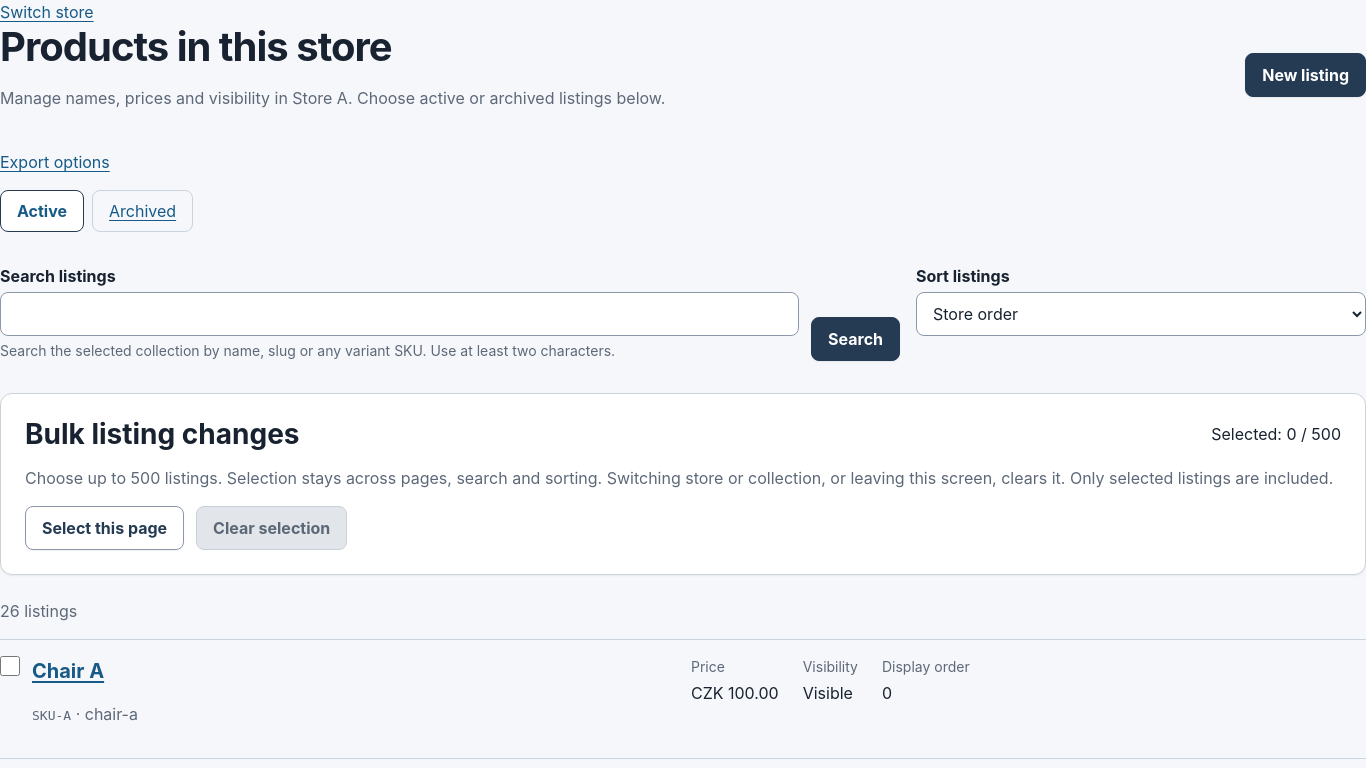
Test case: can deselect a page or clear the exact selection without sending a write
Click the button "Select this page": (105, 528) [25, 506, 184, 550]
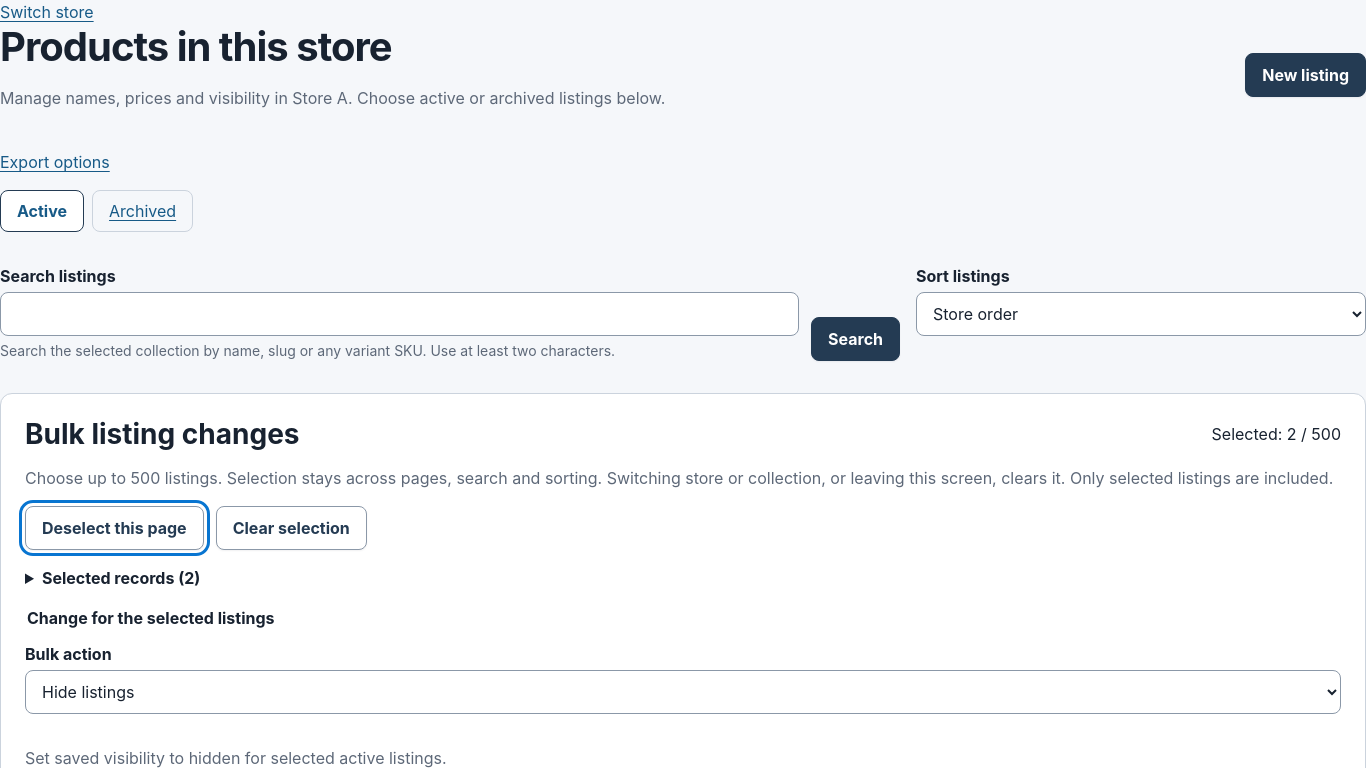
Click the button "Deselect this page": (114, 528) [25, 506, 204, 550]
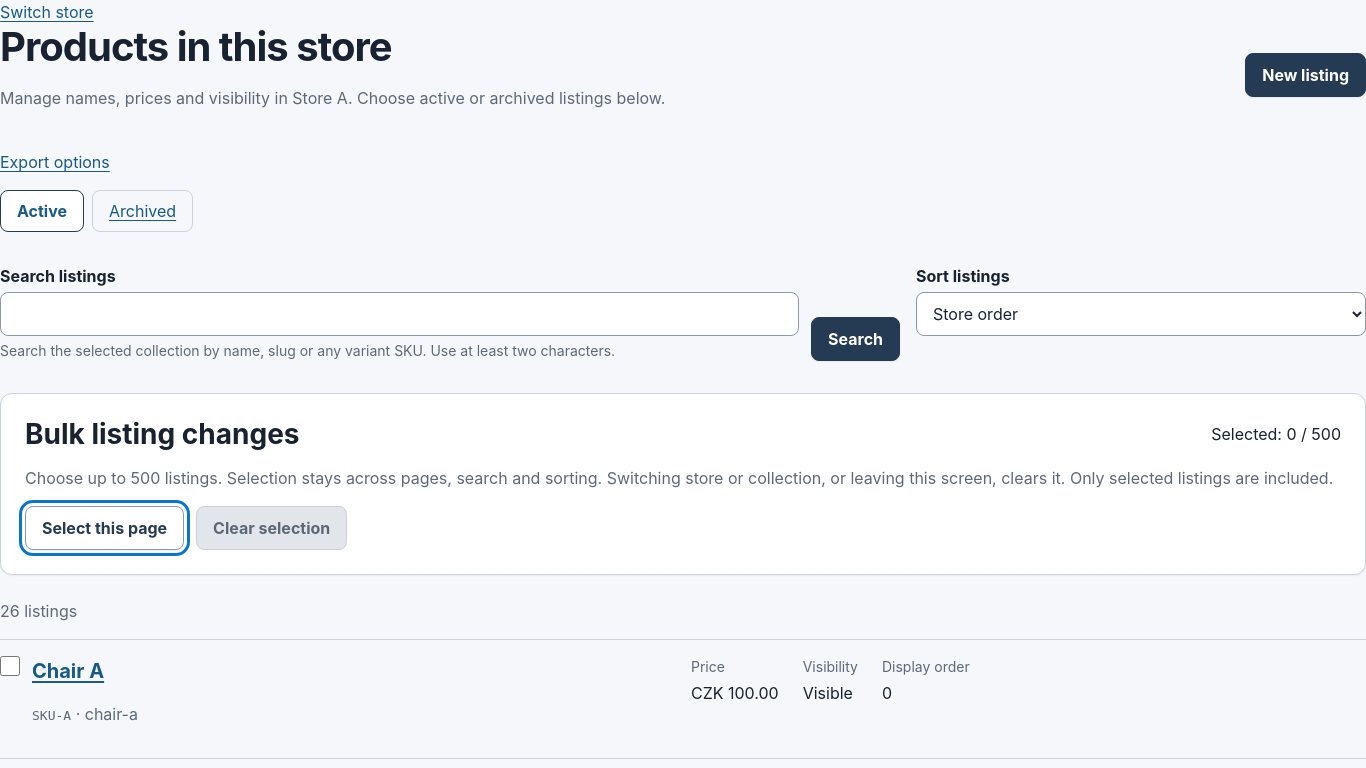
Expected: the text "Selected: 0 / 500" is shown, [1211, 422, 1341, 446]
Click the checkbox named "Select Chair A (SKU-A)": (10, 666) [0, 656, 20, 676]
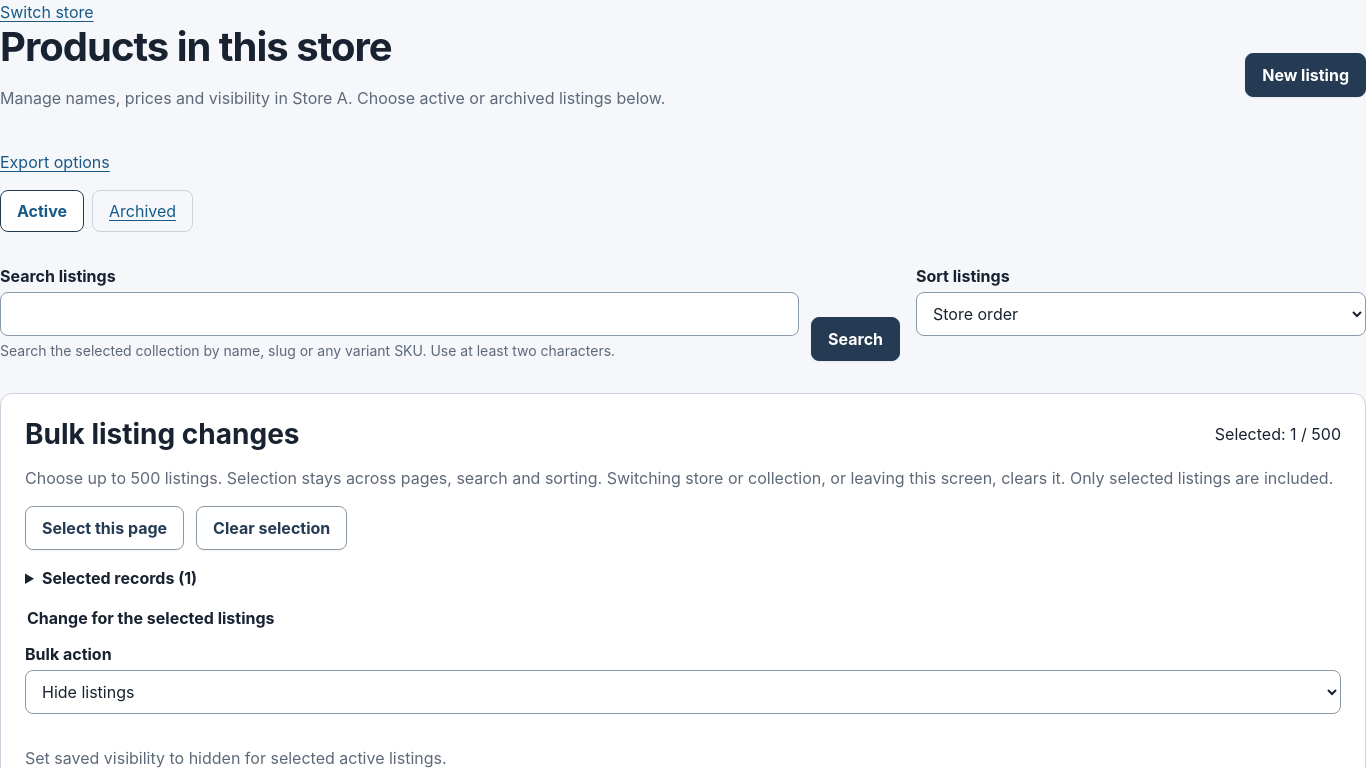
Click the button "Clear selection": (272, 528) [196, 506, 347, 550]
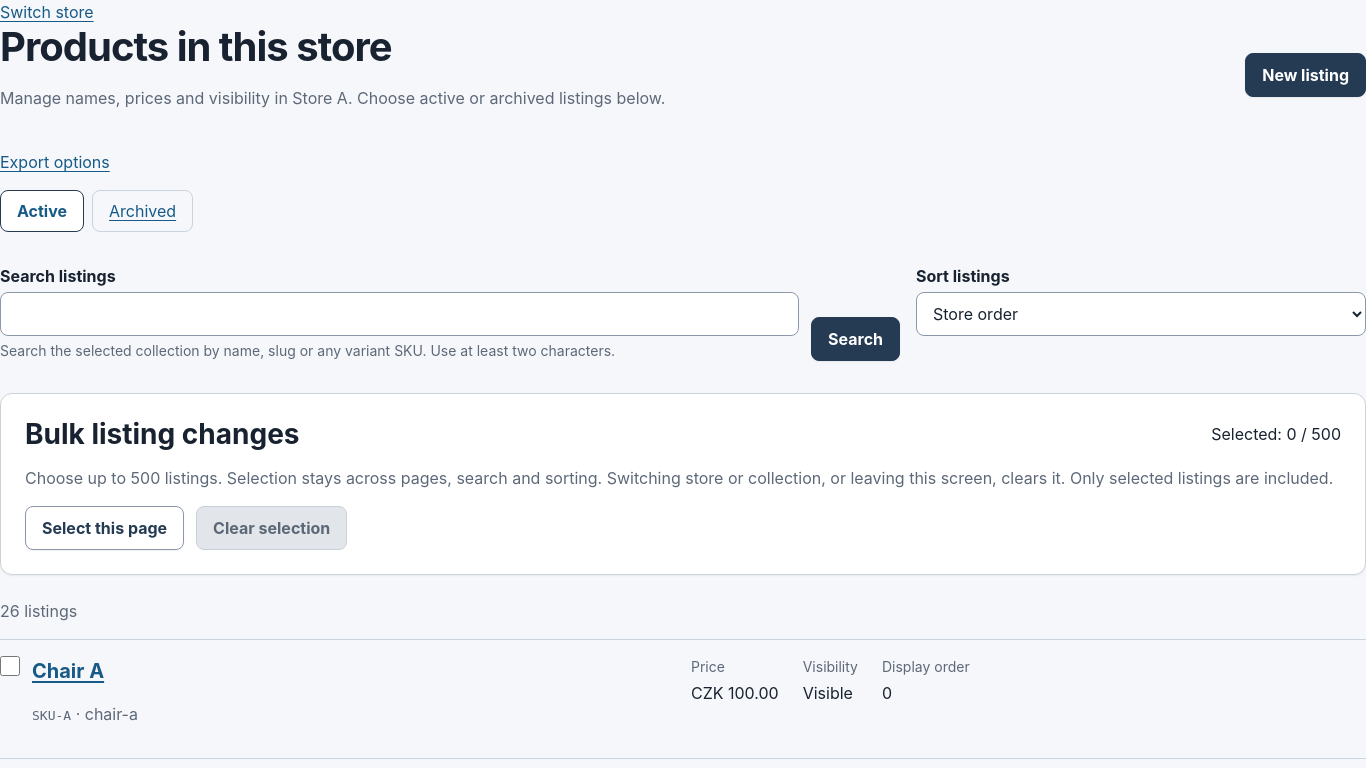
Expected: the text "Selected: 0 / 500" is shown, [1211, 422, 1341, 446]
